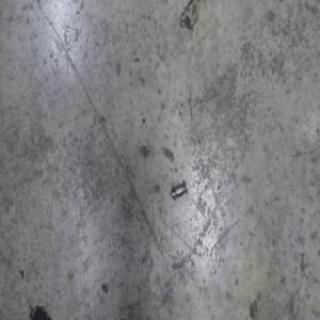Bolttrack_idkeyframe: (170, 179, 187, 201)
